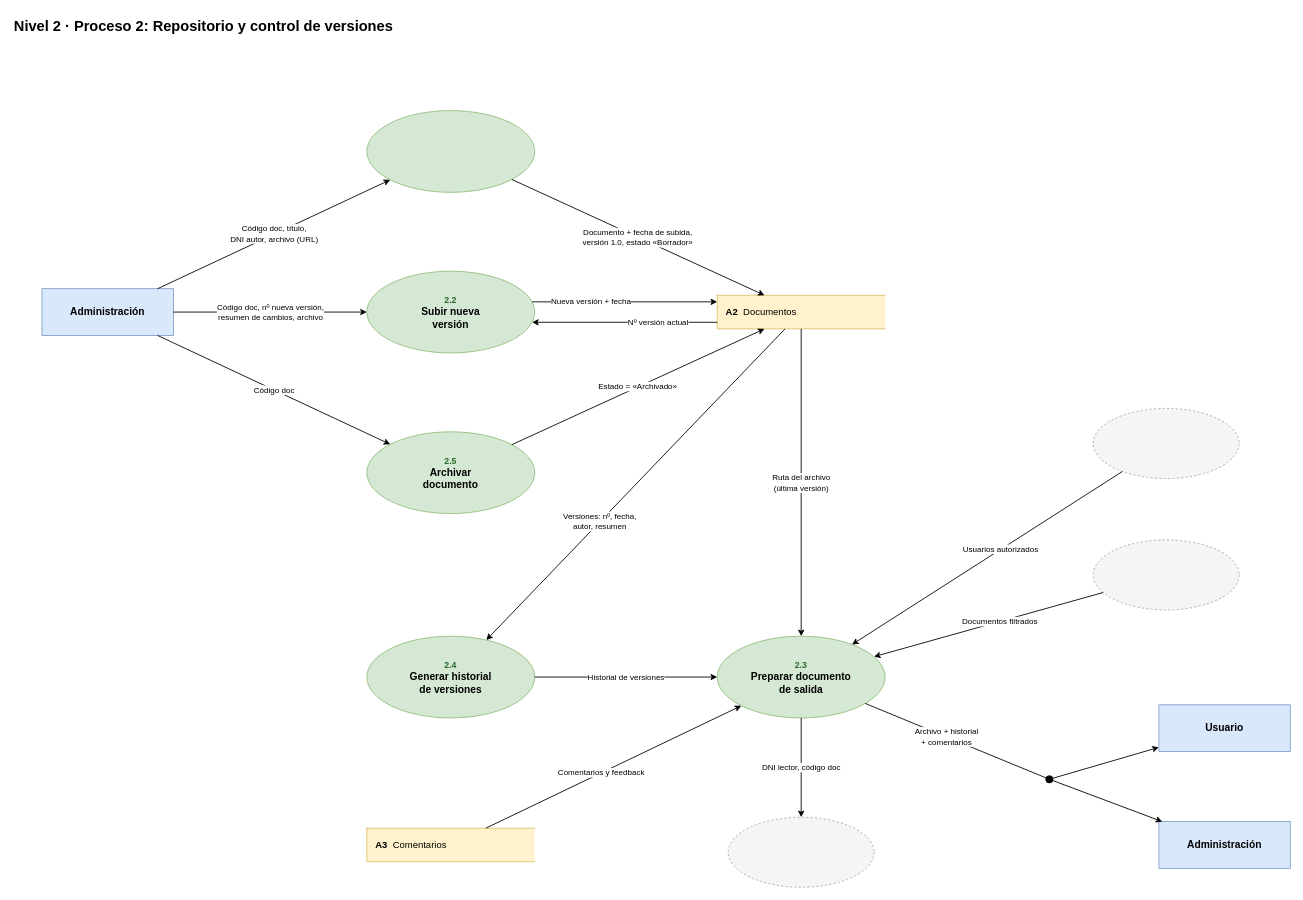
Some shapes in this 1303 by 900 pixel diagram are drawn without their labels. The centre of each missing label's shape, as x and y in pixels:
"1 Identidad y accesos" goes at (1165,443).
"2.1 Subir nuevo documento" goes at (450,151).
"4 Organización y búsqueda" goes at (1165,574).
"5 Auditoría y estadísticas" goes at (800,852).
